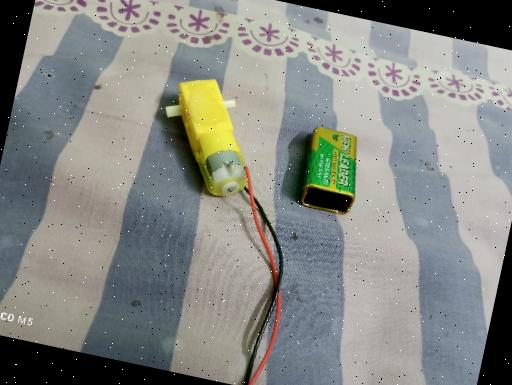Battery: (297, 124, 369, 218)
Motor: (150, 70, 268, 202)
